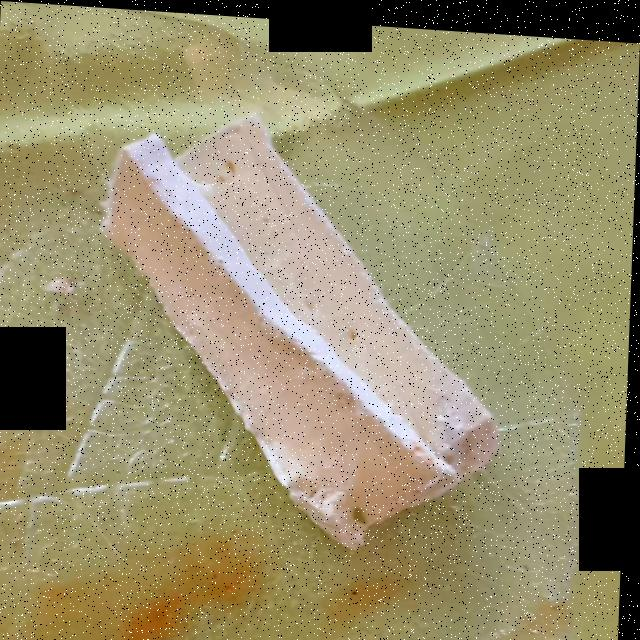brie: (102, 104, 498, 529)
